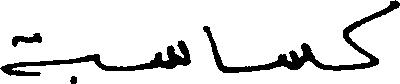X: (343, 0, 399, 74), (0, 28, 43, 80), (157, 35, 189, 73), (204, 21, 223, 77), (284, 38, 310, 74), (90, 49, 99, 72)
